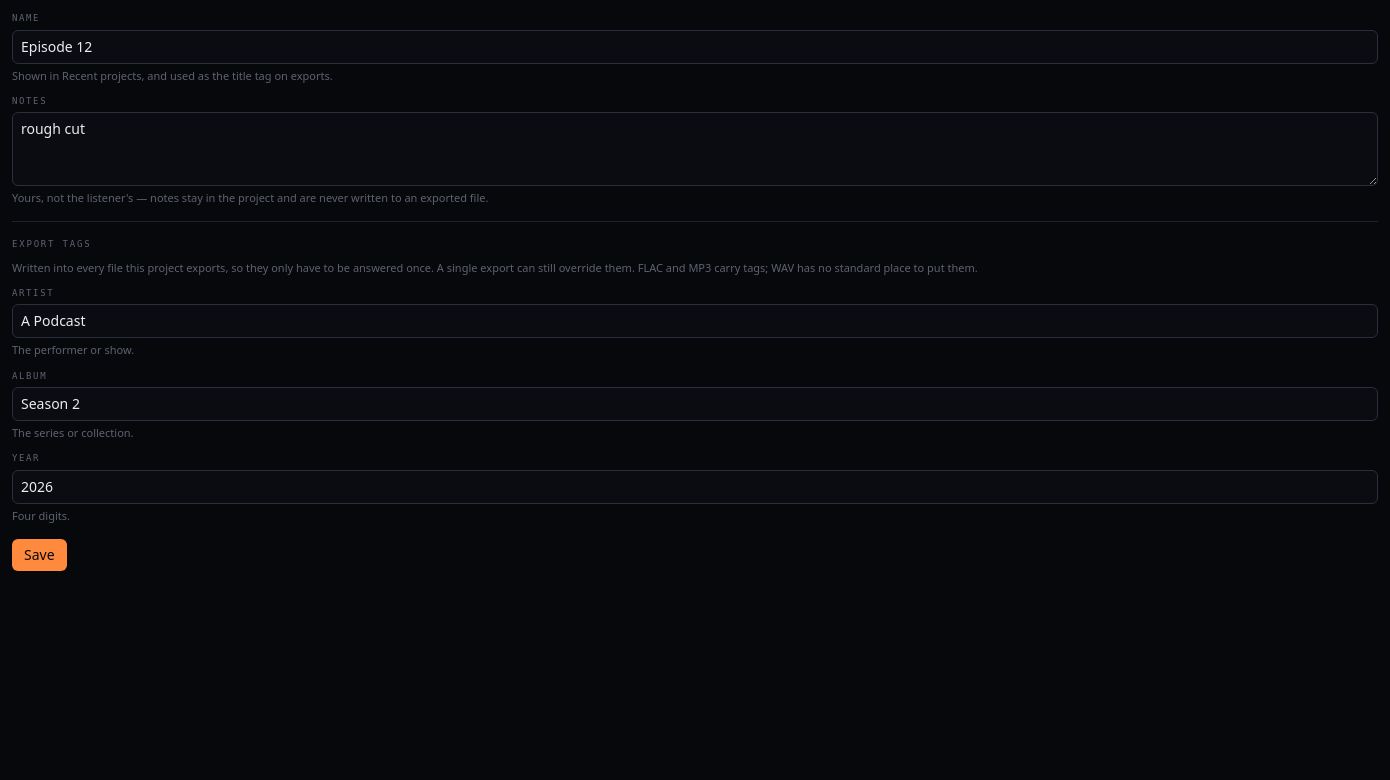
Test: the project editor › reports a save failure instead of looking like it worked
Expected: the field with test id "project-name" is shown, [12,30,1378,64]
Click the button with test id "project-save": (39, 555) [12,539,67,571]
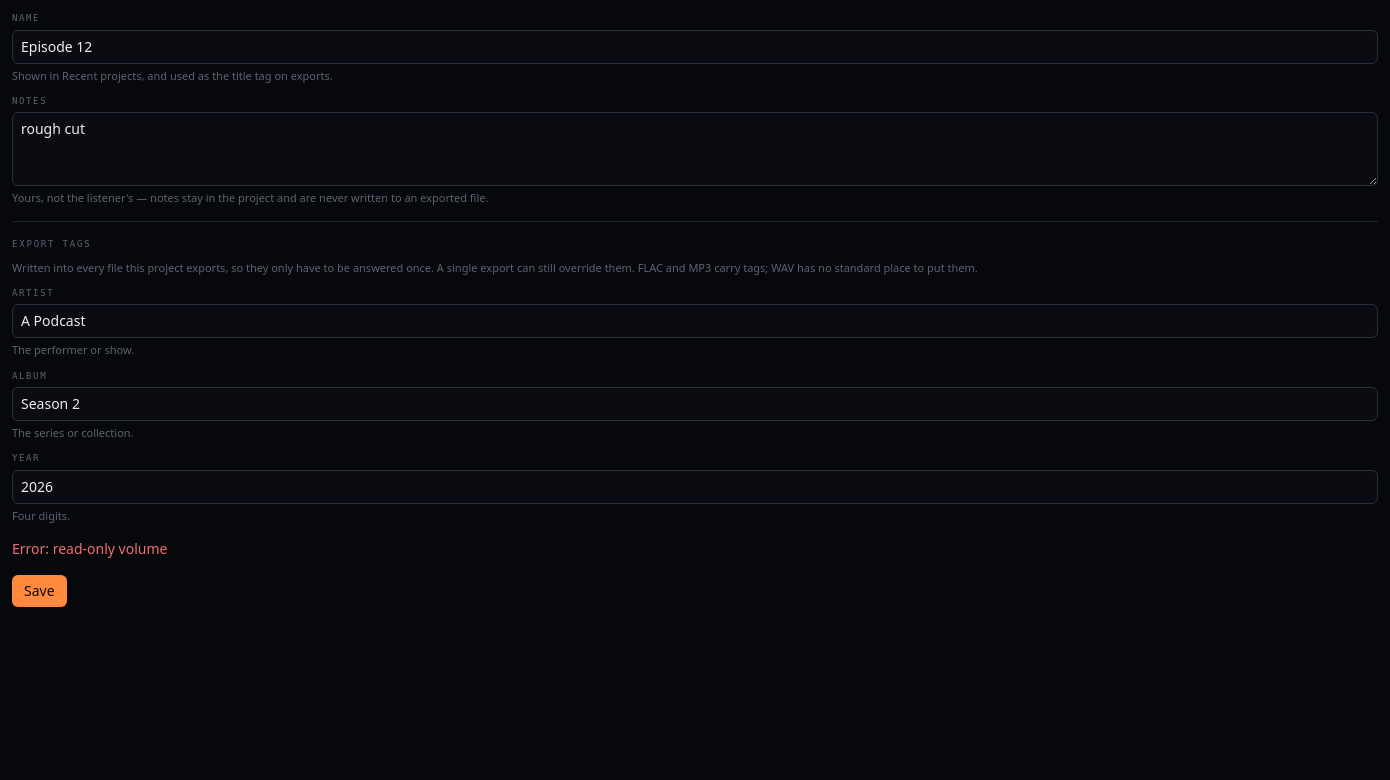
Expected: the text with test id "project-save-error" shows "read-only volume", [12,539,167,558]
